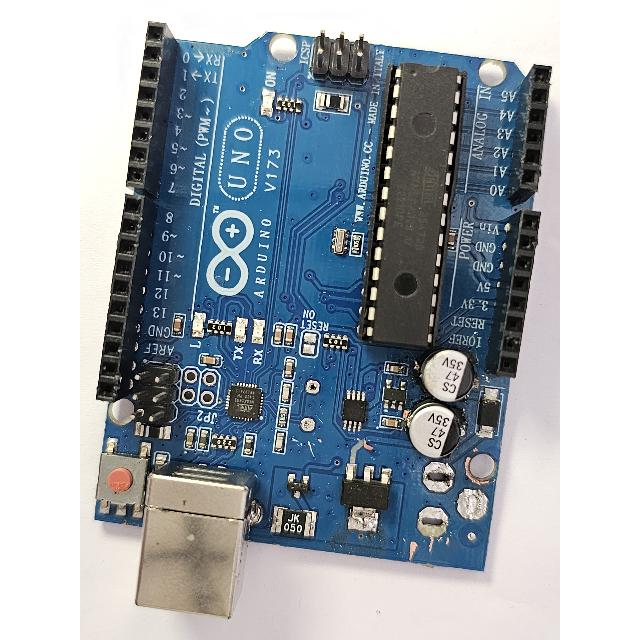missing_crystal_os: (288, 365, 328, 455)
missing_eps: (404, 456, 458, 551)
